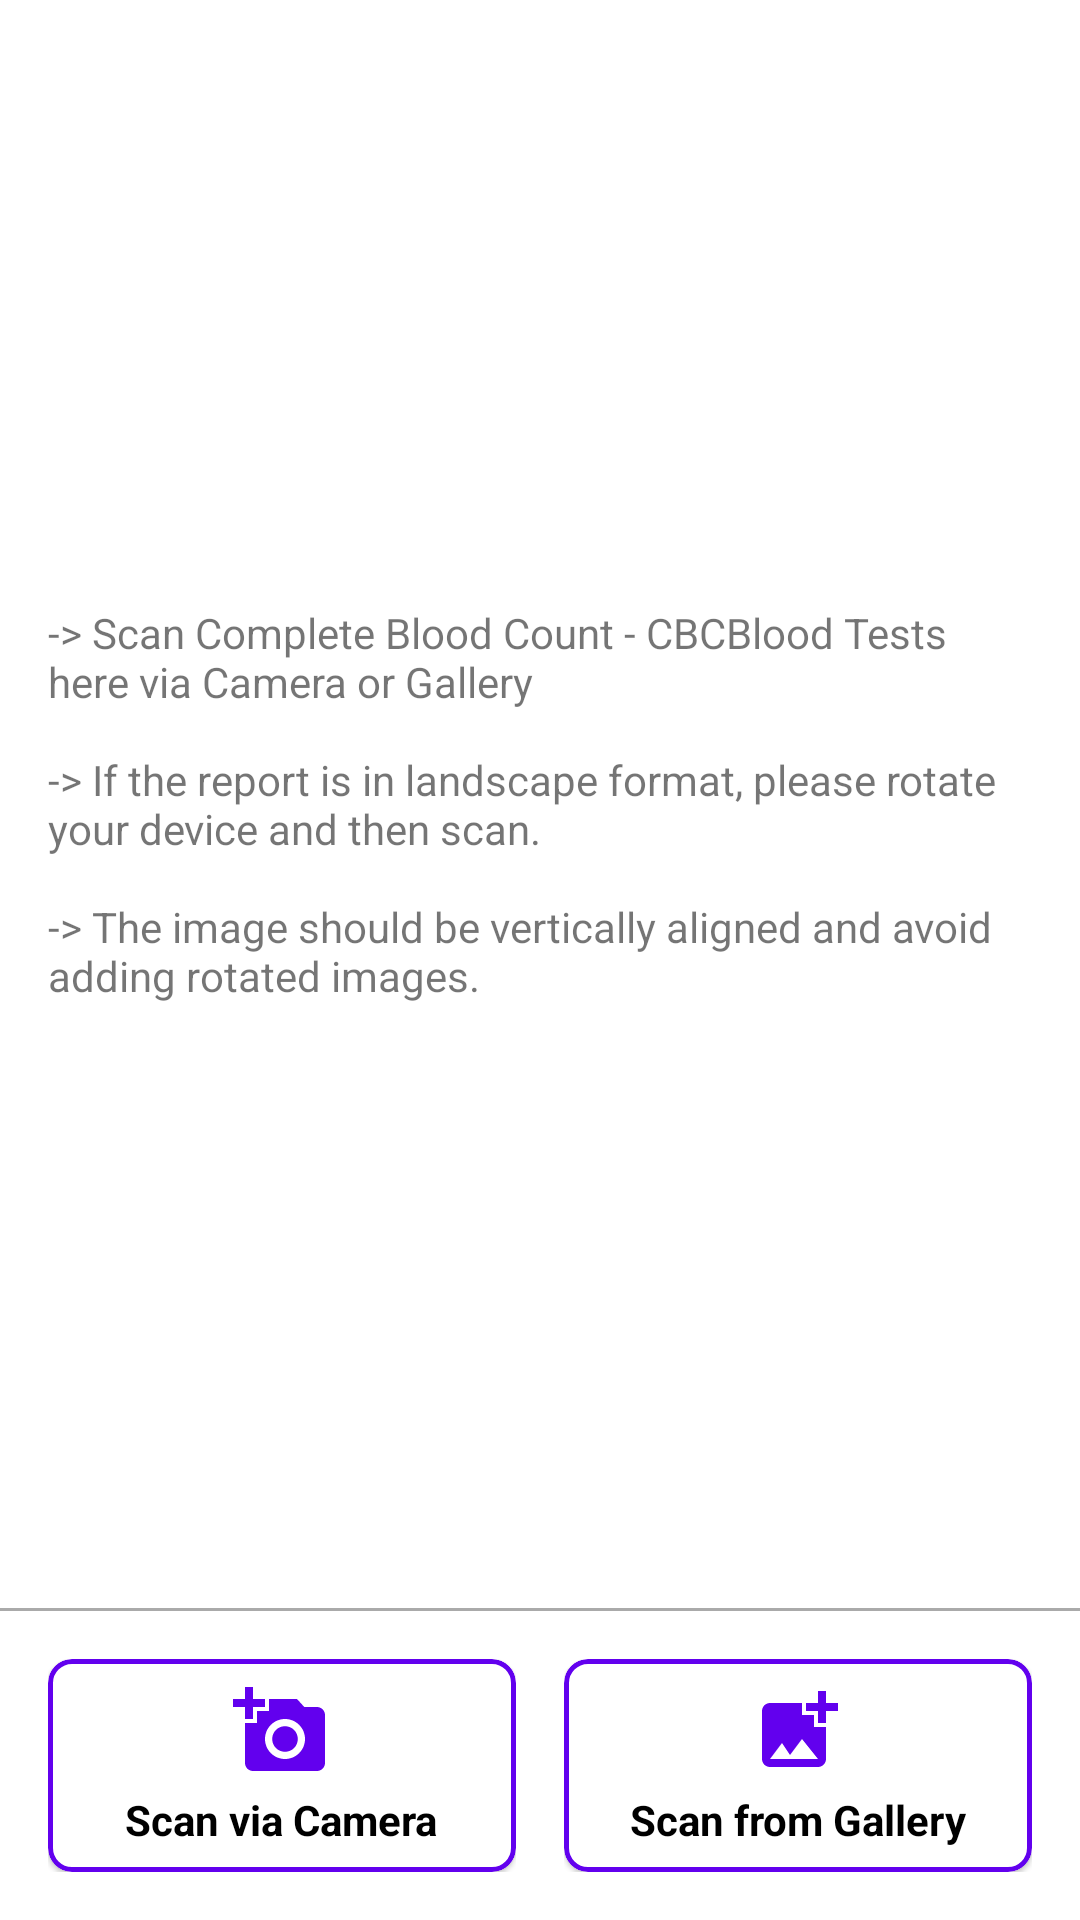

Icon bounding boxes for this 1080px×1920px phone screenshot, format Rect(x1, y1, x2, y2):
add photo: Rect(233, 1687, 325, 1771)
add photo alternate: Rect(762, 1691, 838, 1767)
